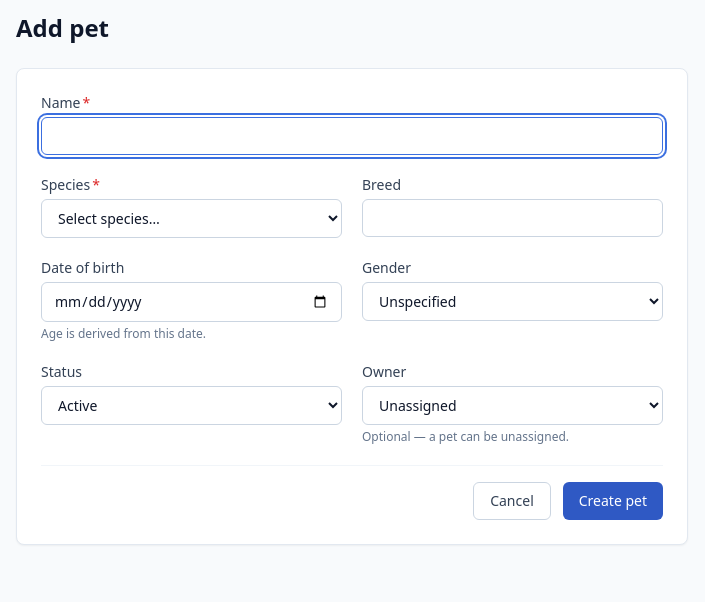
Test: PetForm (create) › clears a field error once the user corrects it
The image size is (705, 602).
Step 1. Click the button "Create pet" → click(613, 501), box [563,482,663,520]
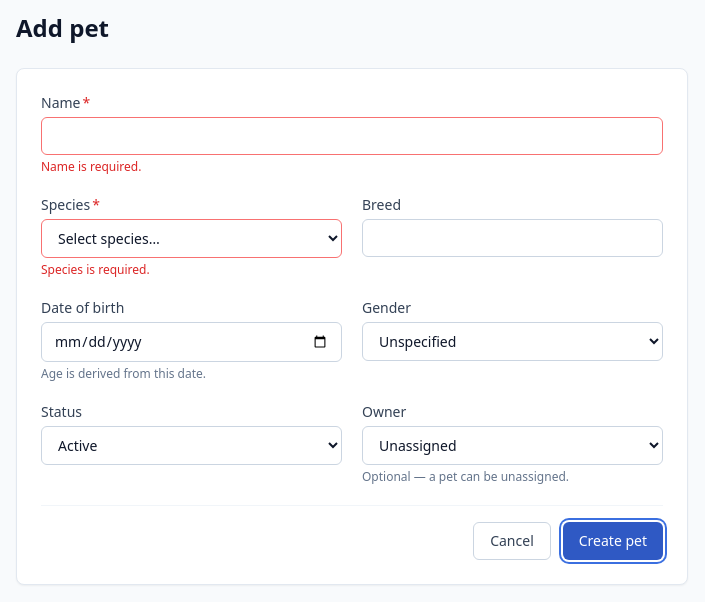
Now the text "Name is required." is shown, box [41,158,141,175]
Step 2. Type "Max" into the field labelled "Name*" → (352, 136), box [41,117,663,155]
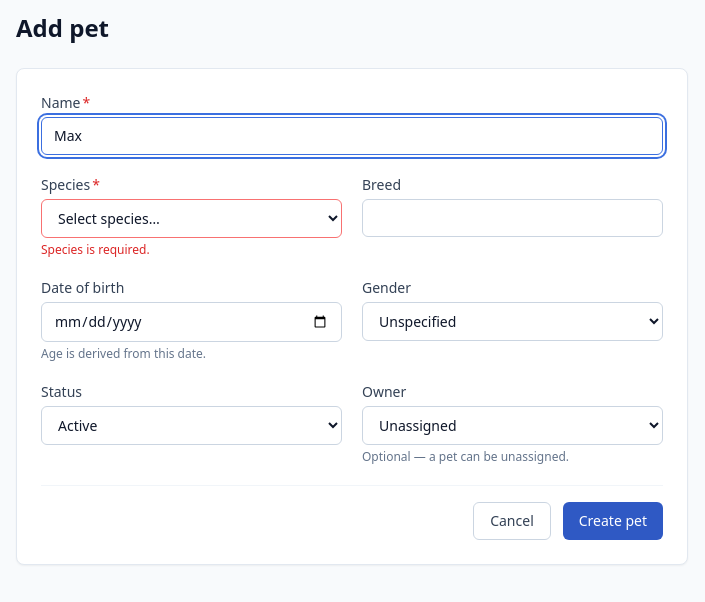
Now the text "Name is required" is gone
